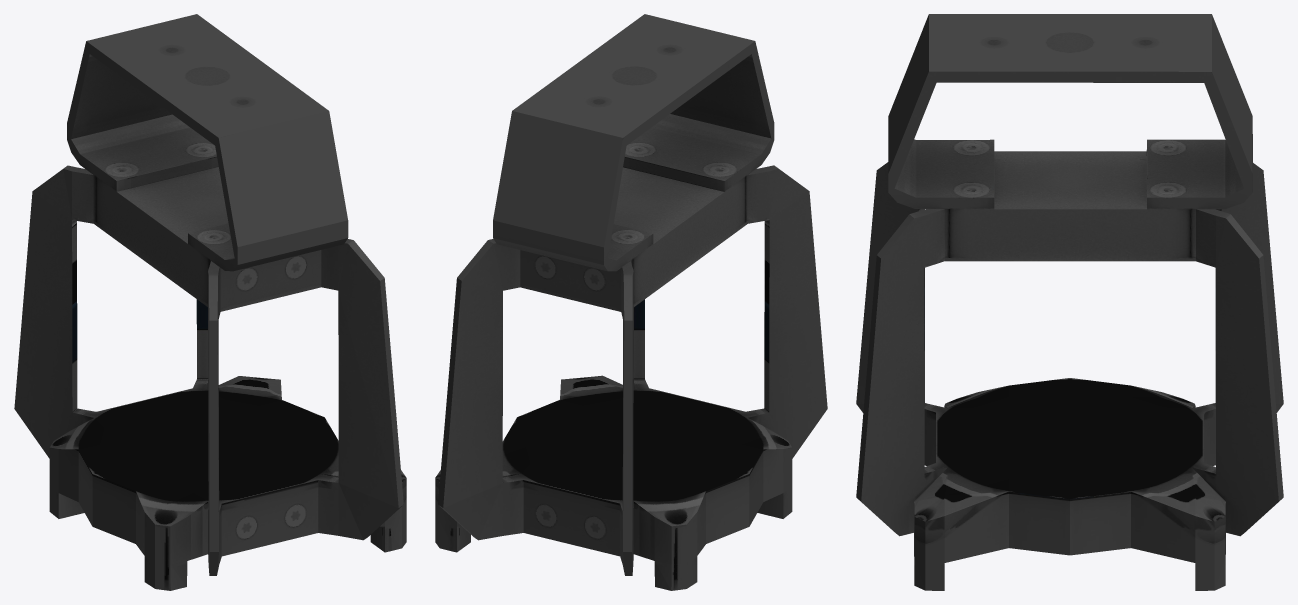
File: lidar_cage.dae
3 renders of one model, left to right at view 1: azimuth 30°, elevation 25°; view 2: azimuth 150°, elevation 25°; view 3: azimuth 270°, elevation 25°, orthographic. The views are drawn at different scales.
Visible parts, largest first — view 1: Cage; view 2: Cage; view 3: Cage.
Boxes of the visible parts, box(x1,y1,x2,y2) form: Cage: box(14, 14, 406, 590); Cage: box(435, 14, 827, 590); Cage: box(856, 14, 1283, 590).
Size of the model in its own units: 0.1008 by 0.1414 by 0.175.
1 material, 1 textured.
